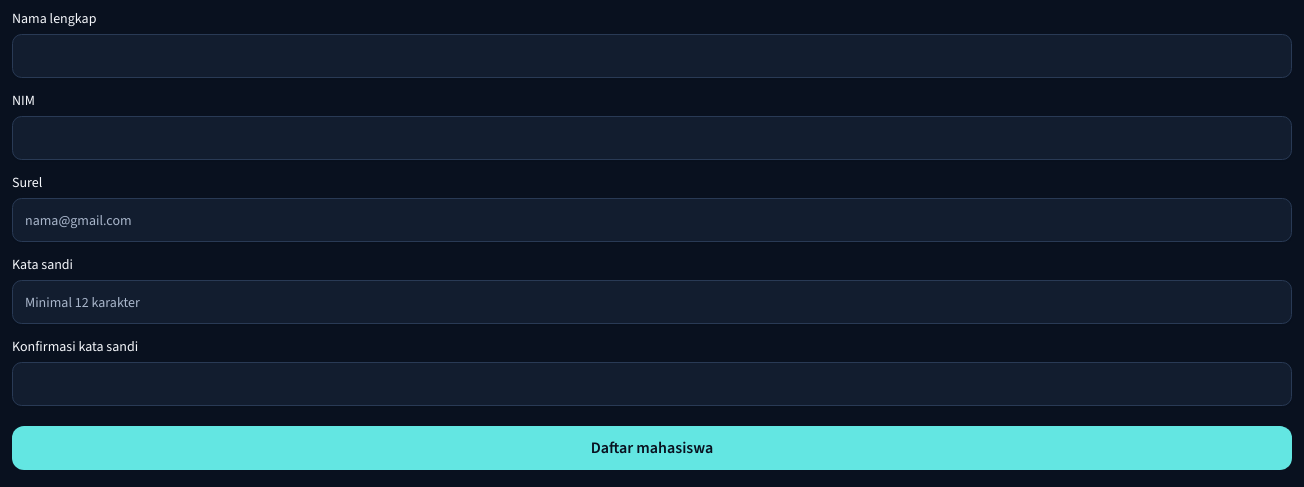
it: formulir pendaftaran mahasiswa › menampilkan sukses dan tautan masuk tanpa menyimpan kata sandi di halaman
In the field labelled "Nama lengkap": (652, 56) 12,34 -> 1292,78, type "Mahasiswa Satu"
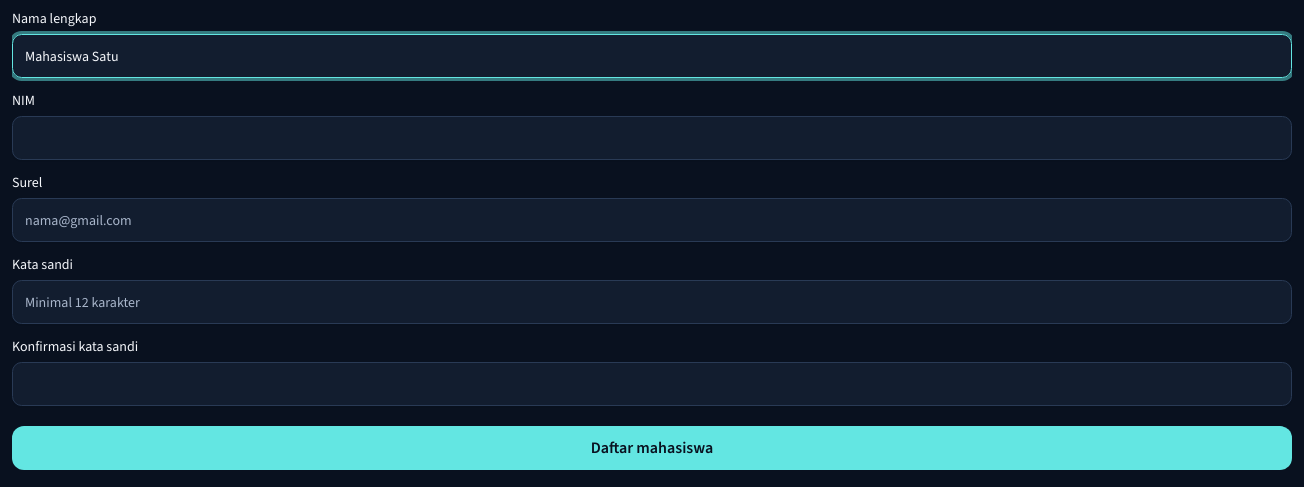
In the field labelled "NIM": (652, 138) 12,116 -> 1292,160, type "001234567890"
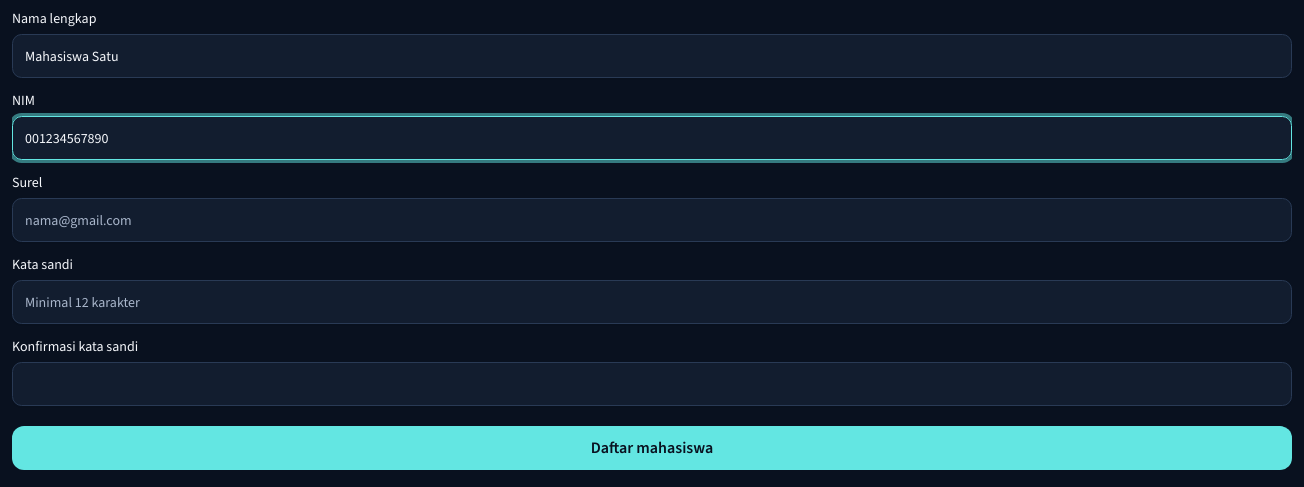
In the field labelled "Surel": (652, 220) 12,198 -> 1292,242, type "mahasiswa@gmail.com"
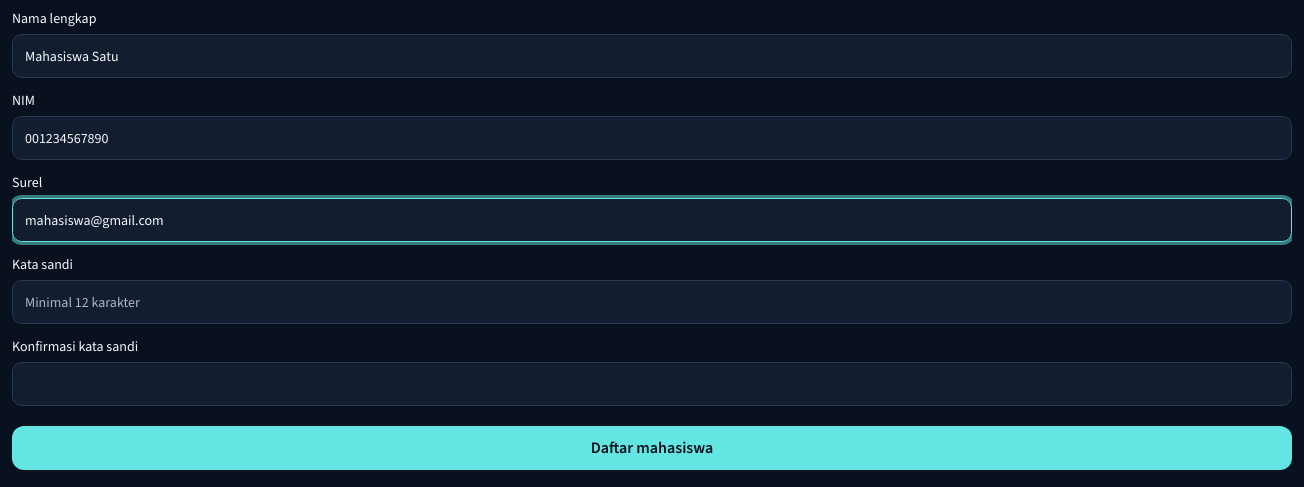
In the password field labelled "Kata sandi": (652, 302) 12,280 -> 1292,324, type "sandi-mahasiswa-2026"
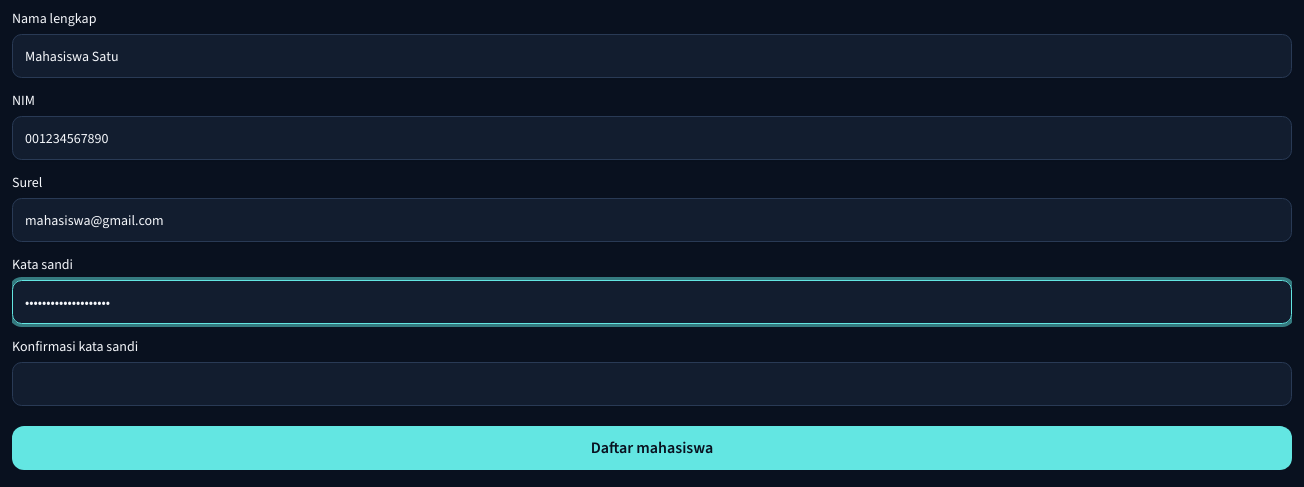
In the password field labelled "Konfirmasi kata sandi": (652, 384) 12,362 -> 1292,406, type "sandi-mahasiswa-2026"
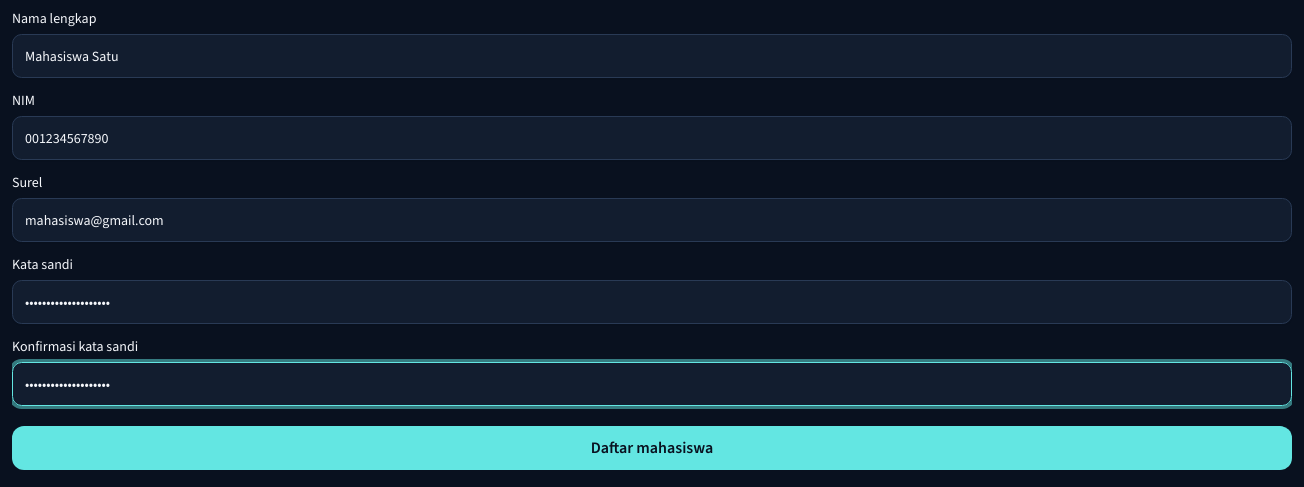
Click the button "Daftar mahasiswa": click(652, 448) 12,426 -> 1292,470
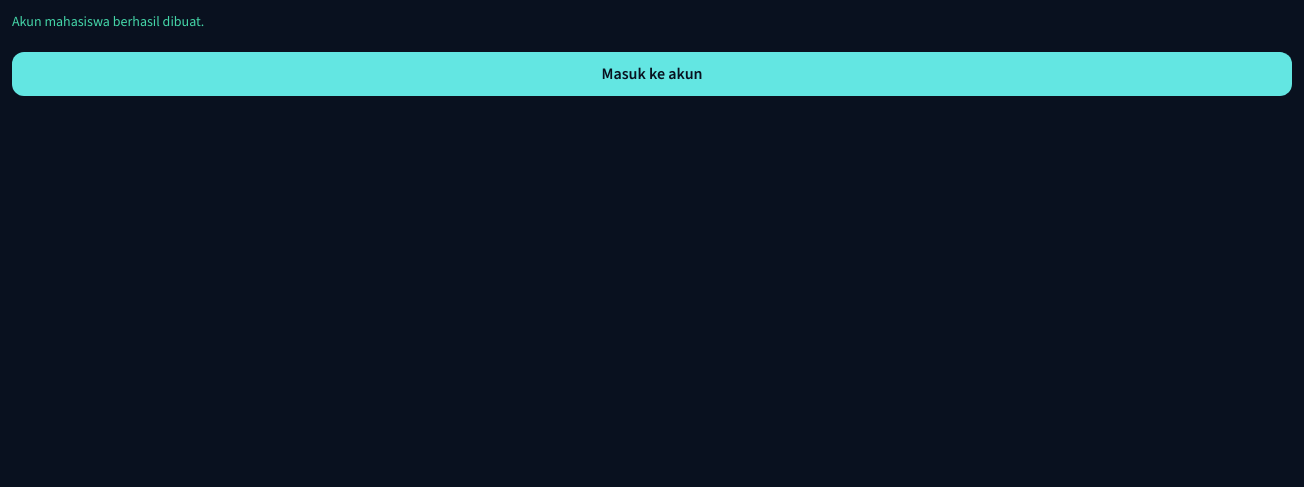
Expected: the message shows "berhasil dibuat", 12,12 -> 204,31
Expected: the label labelled "Kata sandi" is gone
